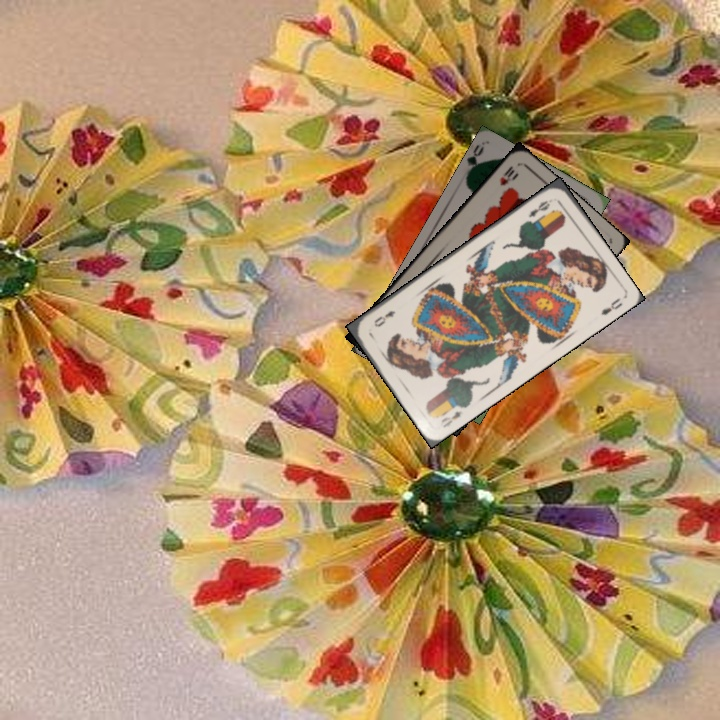EO: (524, 195, 555, 220), (437, 407, 466, 430)
GO: (462, 141, 487, 180)
H10: (495, 162, 521, 188)
